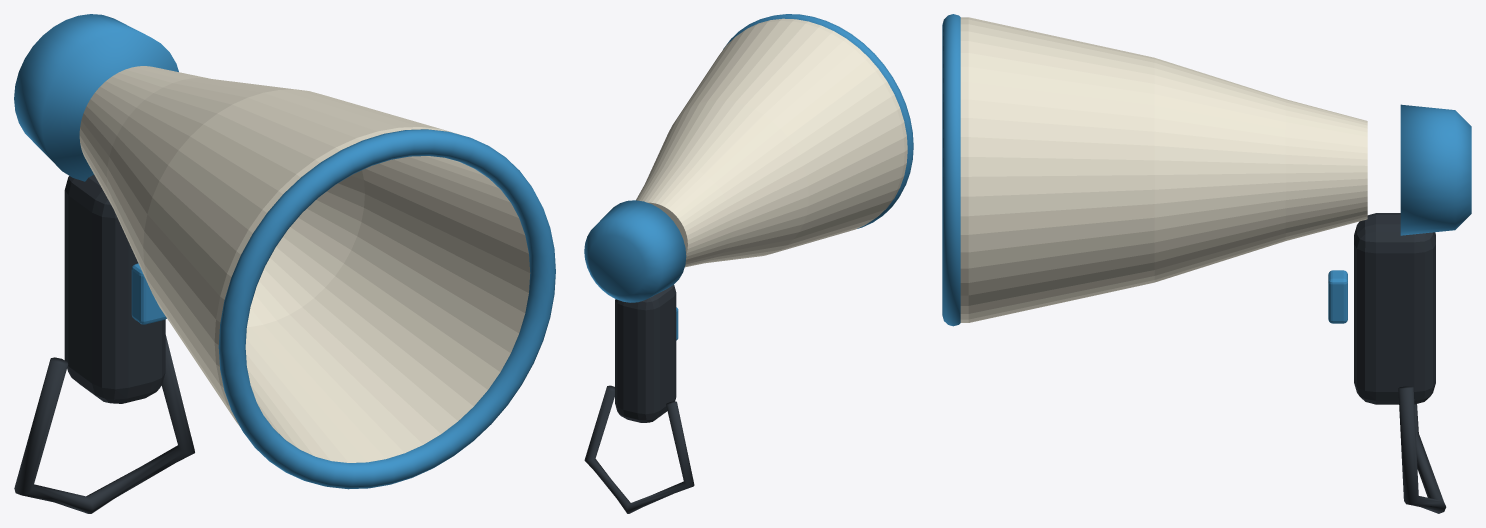
Rendered from Megaphone.fbx.
The picture shows the model from 3 angles, left to right: view 1: azimuth 30°, elevation 25°; view 2: azimuth 150°, elevation 25°; view 3: azimuth 270°, elevation 25°; orthographic projection. The views are drawn at different scales.
Visible parts, largest first — view 1: Megaphone_Mesh; view 2: Megaphone_Mesh; view 3: Megaphone_Mesh.
Boxes of the visible parts, bbox=[...] form: Megaphone_Mesh: bbox=[14, 14, 555, 513]; Megaphone_Mesh: bbox=[584, 14, 913, 513]; Megaphone_Mesh: bbox=[942, 14, 1471, 513].
Bounding box in the file's own units: 0.286 × 0.49 × 0.484.
